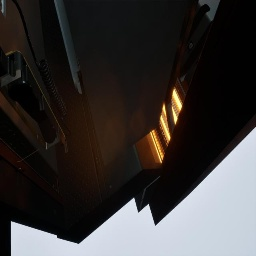EmergencyPhone ,: (0, 0, 71, 186)
SafetySwitchPanel ,: (54, 0, 188, 166)
